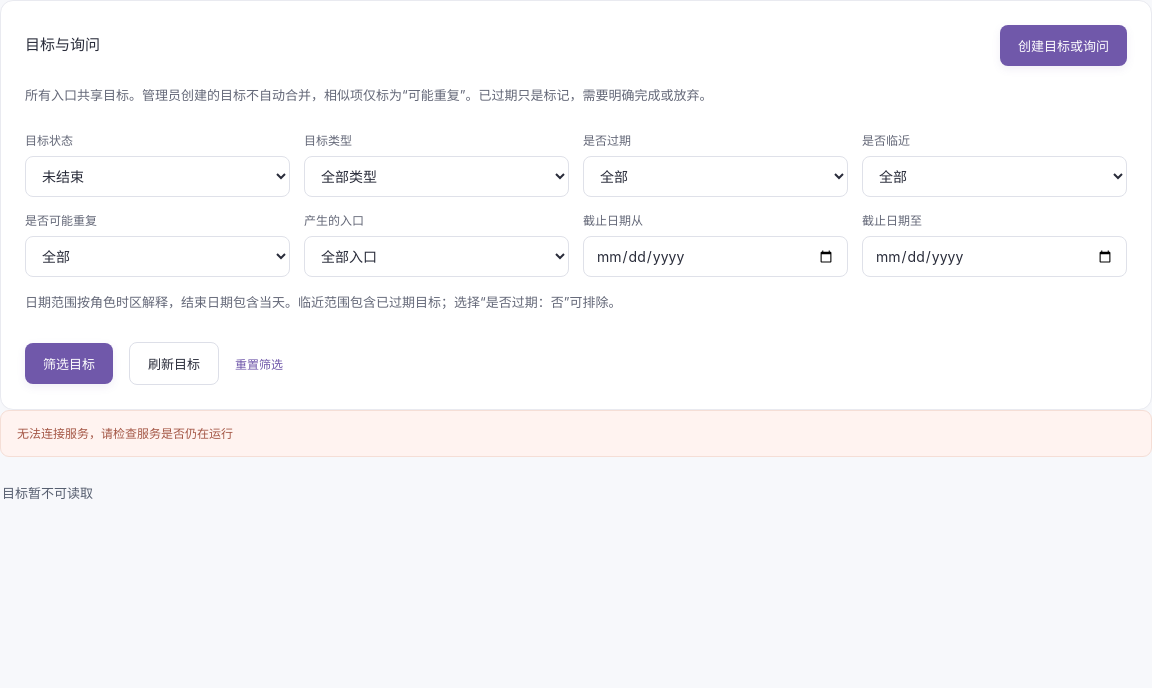
Test case: 截止日期范围逆序不发新查询，失败可重试且不冒充空列表
The image size is (1152, 688).
Expected: the message shows "无法连接", [17,426,233,441]
Click the button "刷新目标" at (174, 363), box [129,342,219,385]
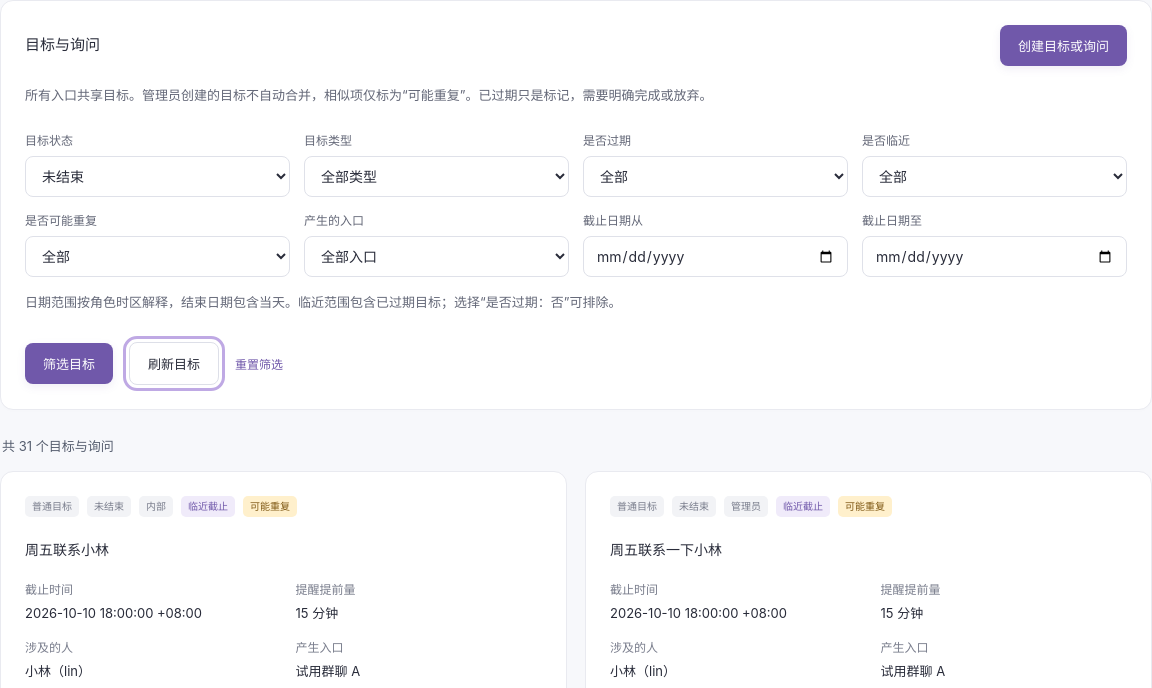
Expected: the heading "周五联系小林" is shown, [25,541,109,558]
Type "2026-10-12" into the date field labelled "截止日期从" at (716, 257), box [583,236,848,277]
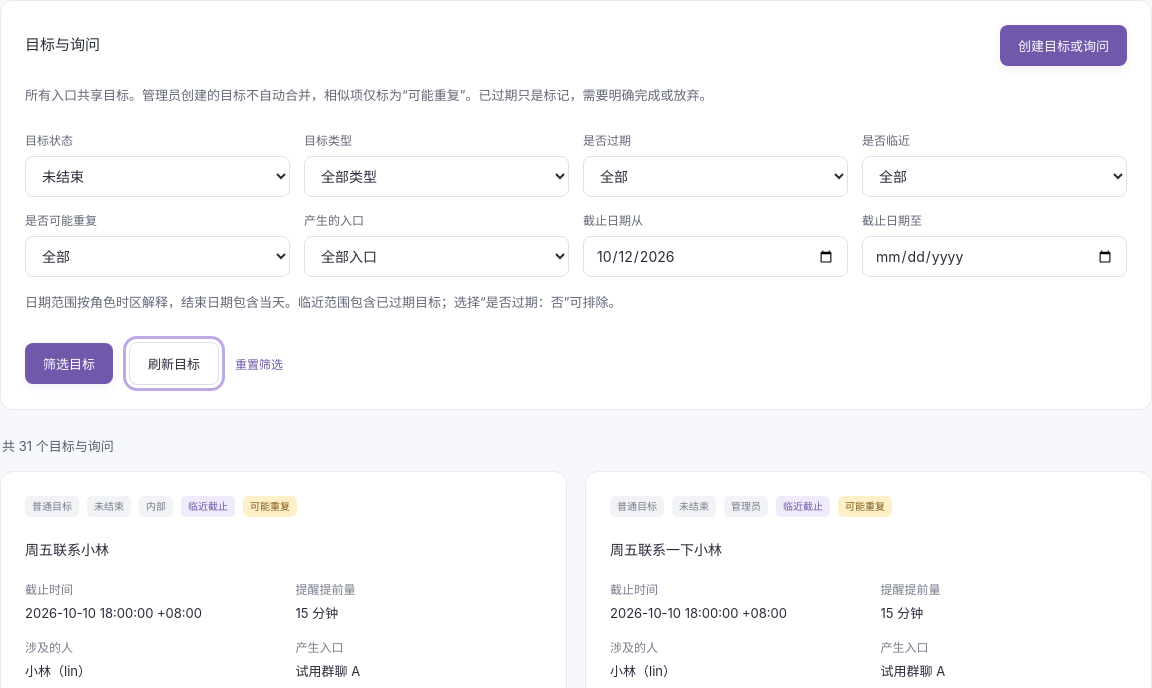
Type "2026-10-11" into the date field labelled "截止日期至" at (994, 257), box [862,236,1127,277]
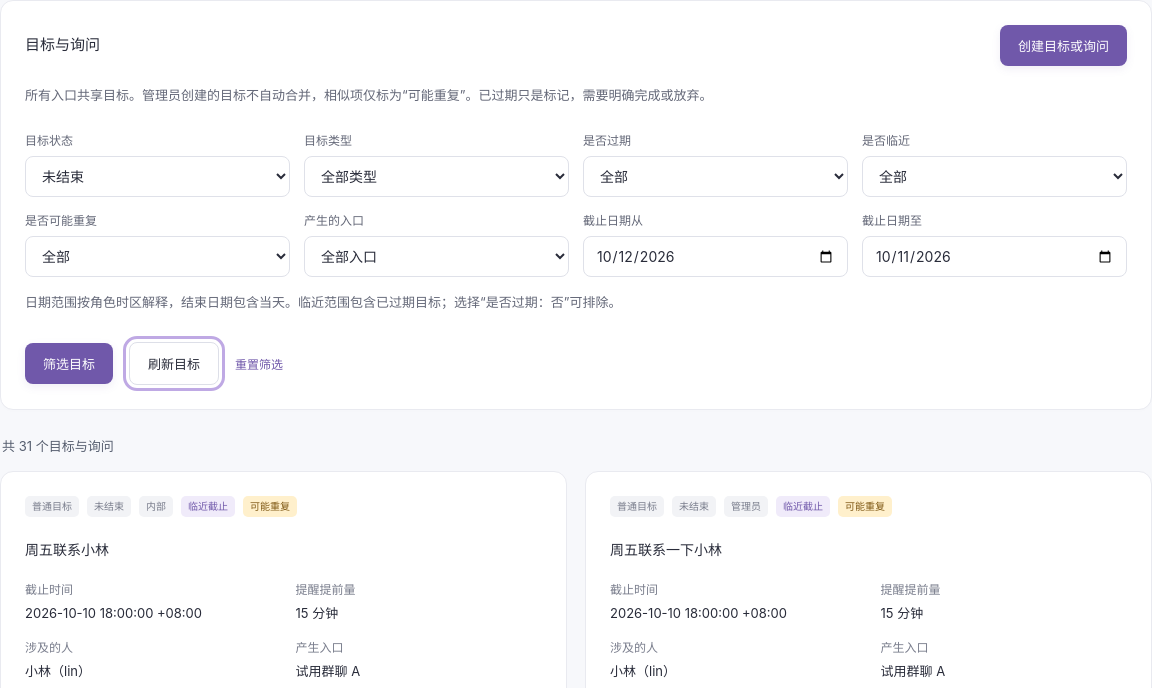
Click the button "筛选目标" at (69, 363), box [25,343,113,384]
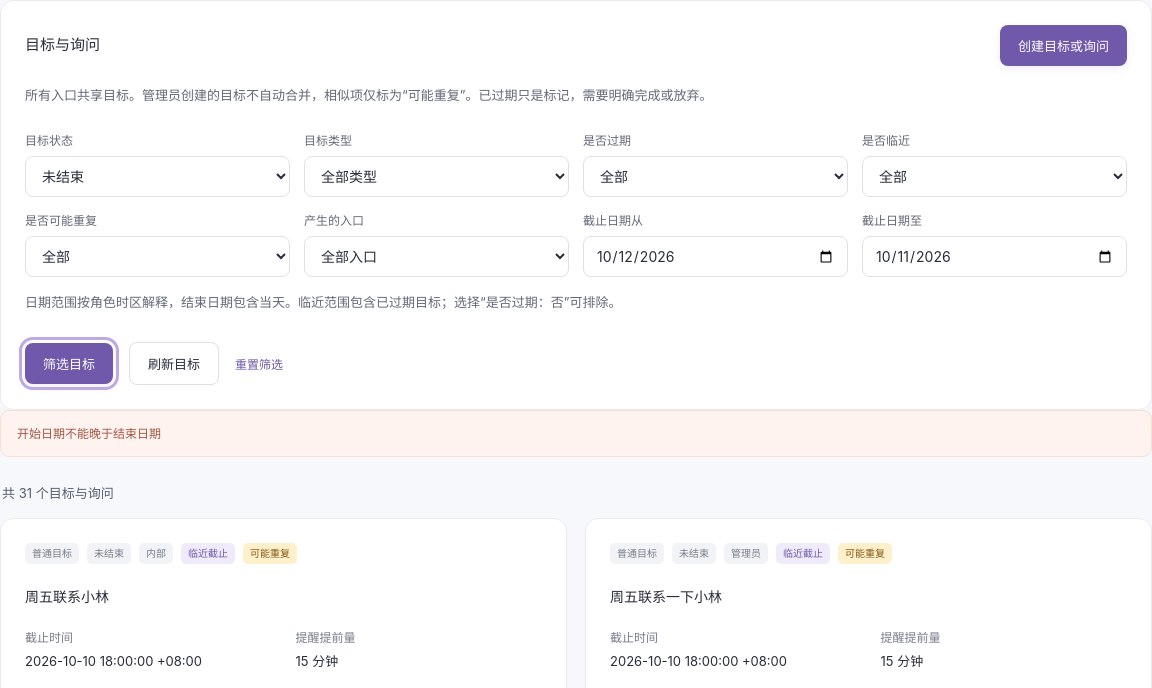
Expected: the message reads "开始日期不能晚于结束日期", [17,426,161,441]
